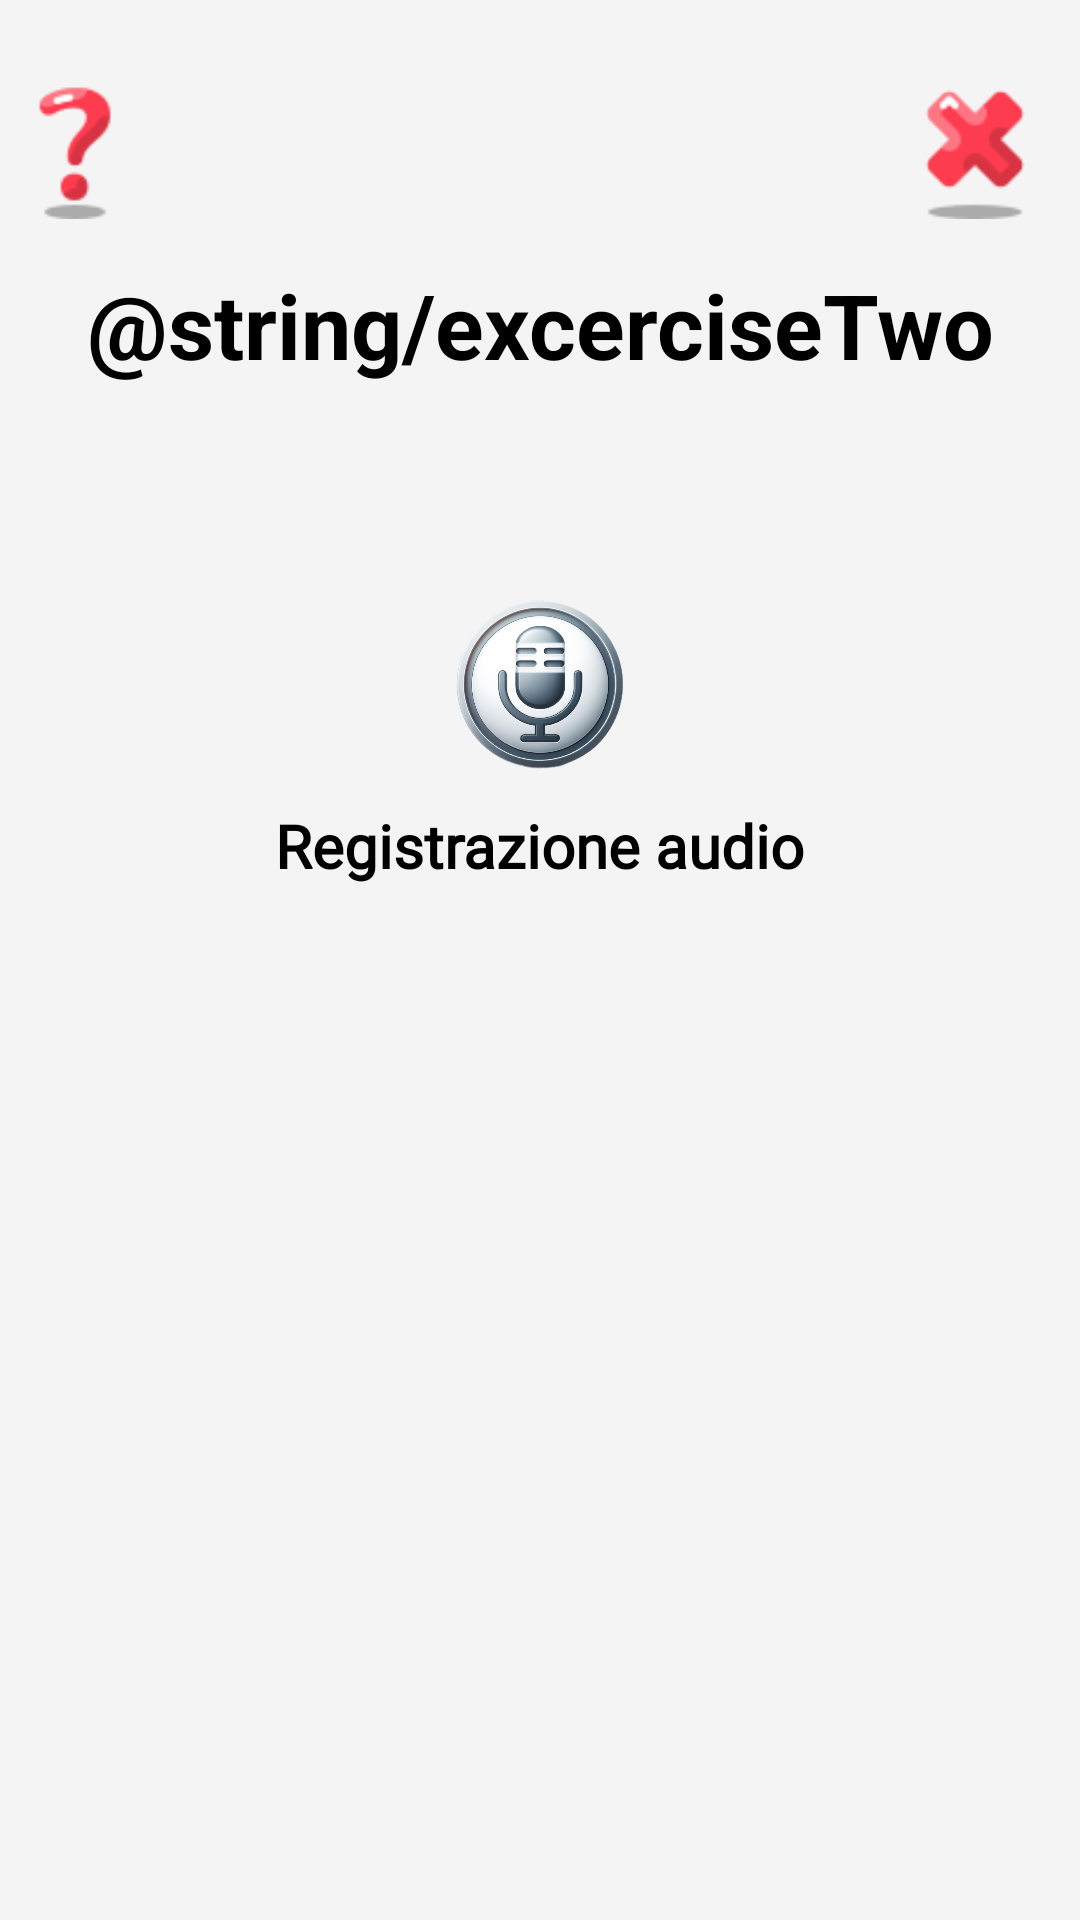

Icon bounding boxes for this 1080px x 1920px phone screenshot, format (x1, y1, x2, y2):
exit: (926, 91, 1024, 219)
help: (39, 87, 111, 219)
microphone: (457, 603, 623, 768)
